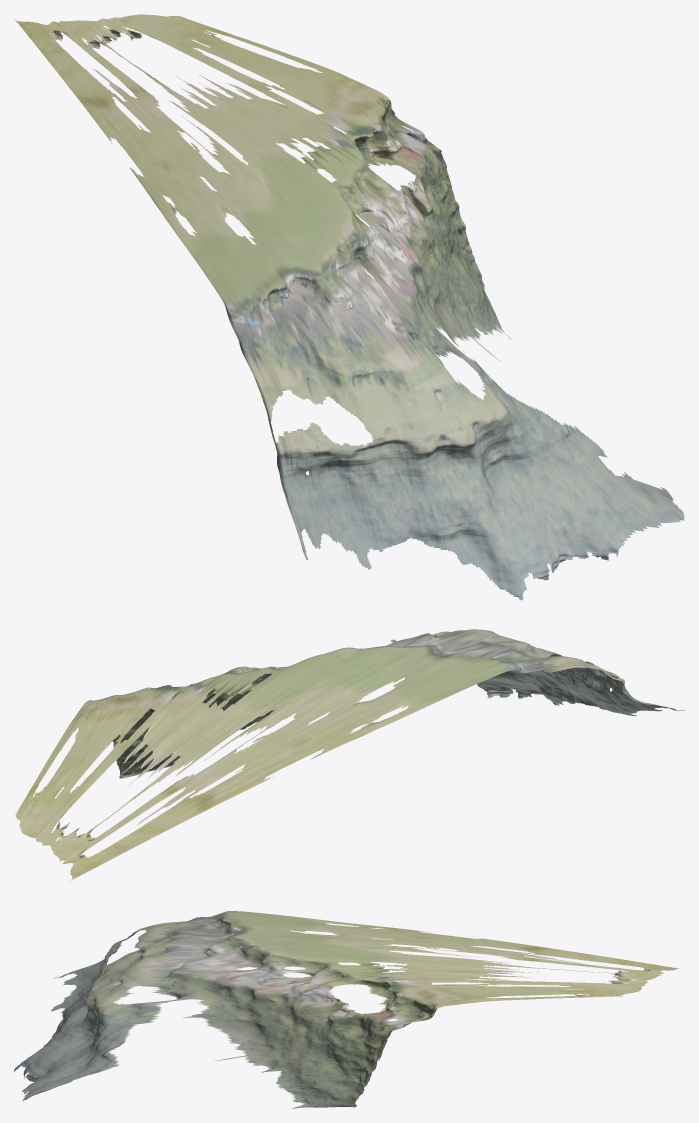
Rendered from map_clean.glb.
The picture shows the model from 3 angles, top to bottom: view 1: azimuth 30°, elevation 25°; view 2: azimuth 150°, elevation 25°; view 3: azimuth 270°, elevation 25°; orthographic projection. The views are drawn at different scales.
Visible parts, largest first — view 1: geometry_0; view 2: geometry_0; view 3: geometry_0.
Boxes of the visible parts, left/top/right/bottom form: geometry_0: left=15, top=14, right=684, bottom=600; geometry_0: left=14, top=629, right=684, bottom=880; geometry_0: left=14, top=911, right=678, bottom=1108.
Bounding box in the file's own units: 0.5885 × 0.2841 × 1.31.
